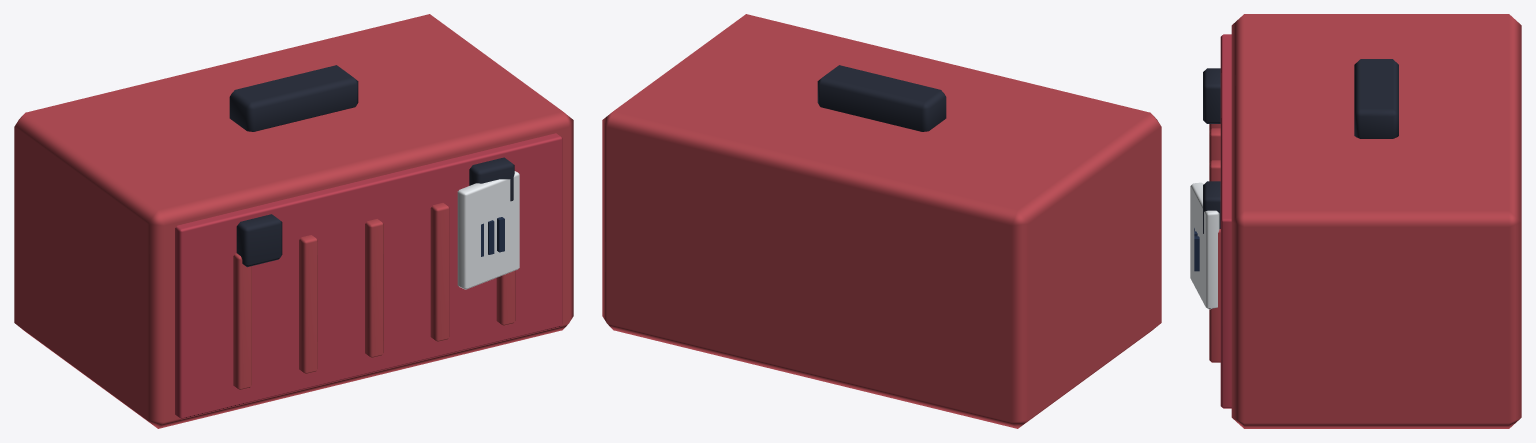
Rendered from suitcase.glb.
3 renders of one model, left to right at view 1: azimuth 30°, elevation 25°; view 2: azimuth 150°, elevation 25°; view 3: azimuth 270°, elevation 25°, orthographic.
Parts seen in each view (by area): view 1: suitcase; view 2: suitcase; view 3: suitcase.
Part boxes in pixels (<box>): suitcase: <box>14,14,573,428</box>; suitcase: <box>602,14,1161,428</box>; suitcase: <box>1190,14,1521,428</box>.
Bounding box in the file's own units: 1.1 × 0.6105 × 0.7429.
